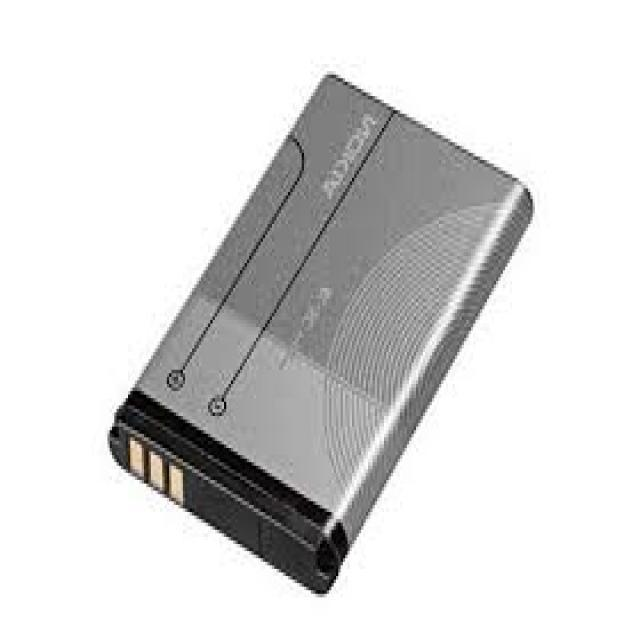battery: (108, 71, 536, 596)
